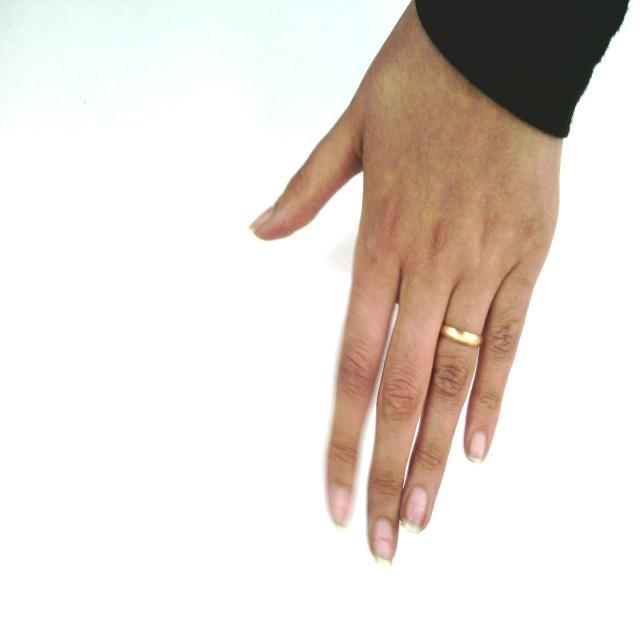Fingernail: (401, 486, 429, 534), (370, 517, 395, 567), (331, 488, 350, 530), (248, 206, 276, 232), (467, 431, 487, 463)
